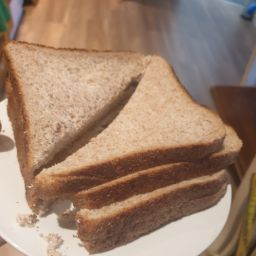Breads: (4, 34, 243, 254), (37, 42, 245, 198), (92, 89, 227, 249), (8, 42, 93, 252)
